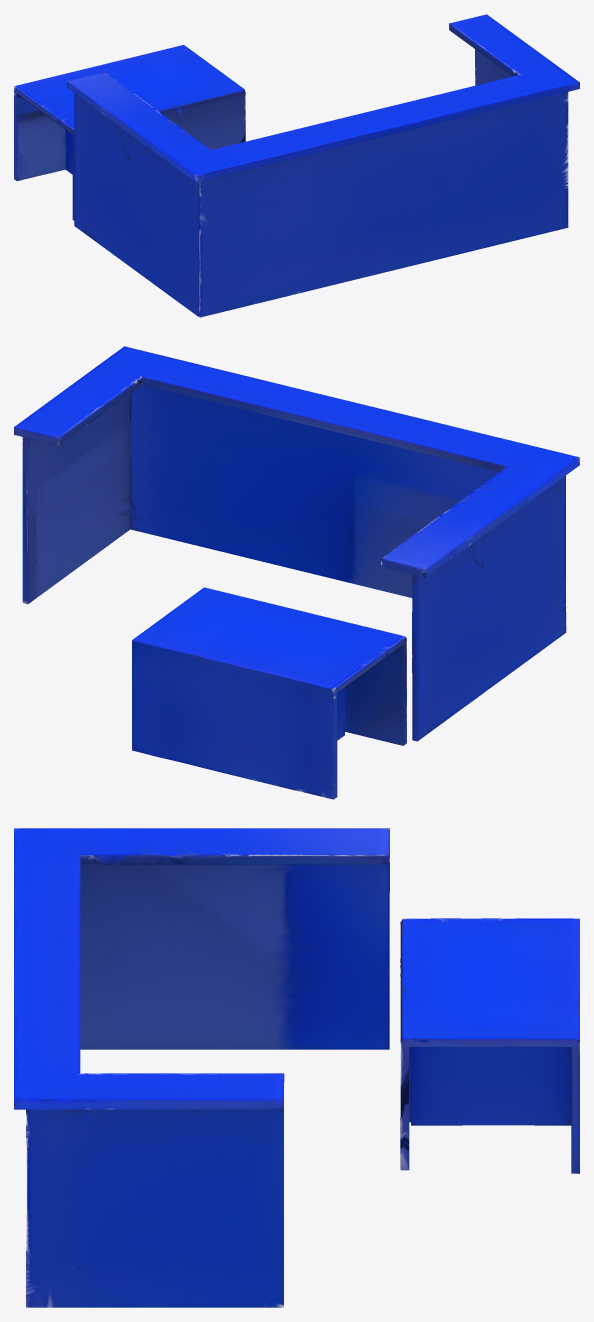
File: base_basic_shaded.fbx
3 views of the same model, one above another, from view 1: azimuth 30°, elevation 25°; view 2: azimuth 150°, elevation 25°; view 3: azimuth 270°, elevation 25° (orthographic). The views are drawn at different scales.
Visible parts, largest first — view 1: model; view 2: model; view 3: model.
Boxes of the visible parts, <box> form: model: <box>14,14,579,317</box>; model: <box>14,346,579,799</box>; model: <box>14,828,579,1307</box>.
Size of the model in its own units: 187 by 69.52 by 165.
